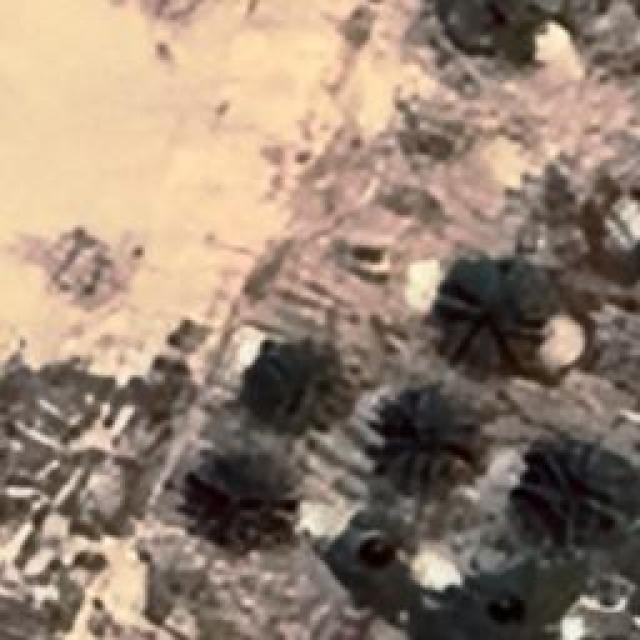PalmTree: (532, 434, 640, 548), (181, 458, 299, 562), (432, 270, 542, 375), (378, 394, 480, 492), (246, 338, 344, 430)
